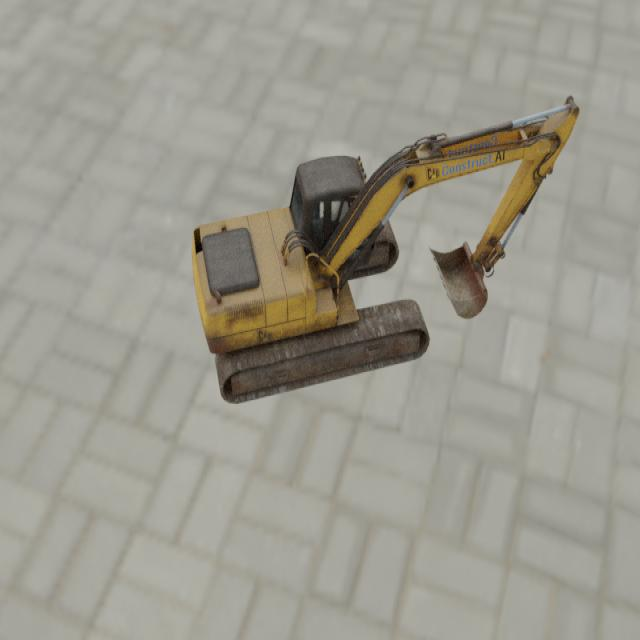excavator: (191, 93, 579, 404)
